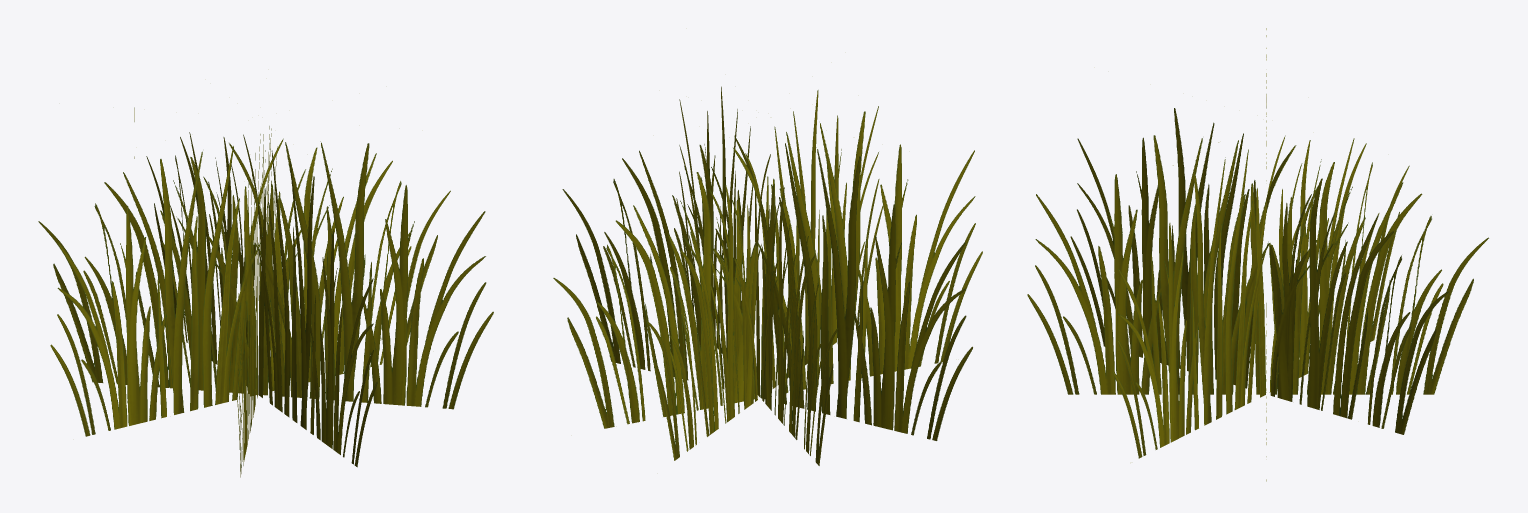
File: grass2.FBX
3 renders of one model, left to right at view 1: azimuth 30°, elevation 25°; view 2: azimuth 150°, elevation 25°; view 3: azimuth 270°, elevation 25°, orthographic. The views are drawn at different scales.
Parts seen in each view (by area): view 1: grass2; view 2: grass2; view 3: grass2.
Boxes of the visible parts, x1,y1,x2,y2 form: grass2: (38,107,493,477); grass2: (553,86,982,465); grass2: (1027,28,1488,481).
Bounding box in the file's own units: 2.99 × 1.84 × 2.99.
